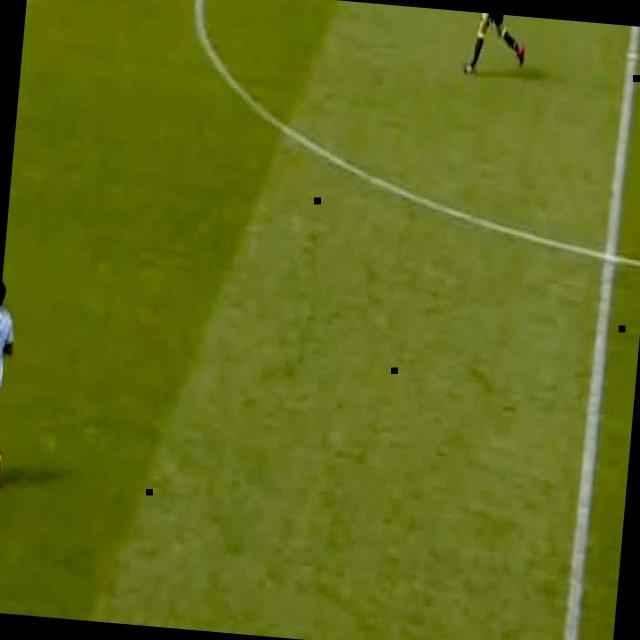player-white: (462, 12, 529, 79), (0, 278, 20, 490)
